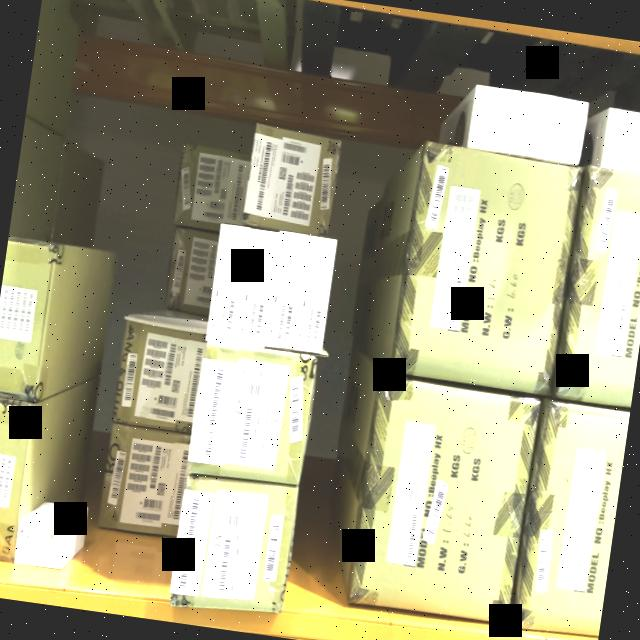box: (398, 144, 580, 392), (352, 382, 536, 619), (188, 342, 315, 483), (170, 478, 294, 612), (244, 128, 340, 236), (469, 92, 588, 164), (205, 228, 252, 346), (240, 232, 280, 344), (268, 236, 307, 350), (296, 238, 333, 348), (15, 526, 65, 571)
